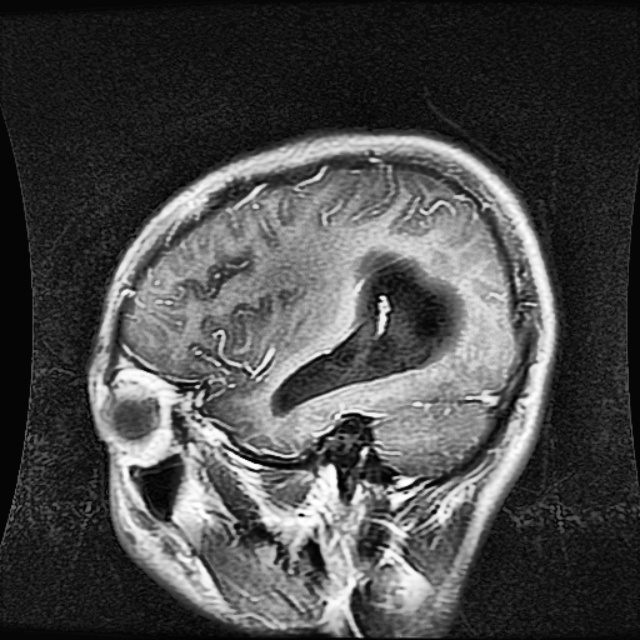Meningioma: (274, 253, 463, 414)
